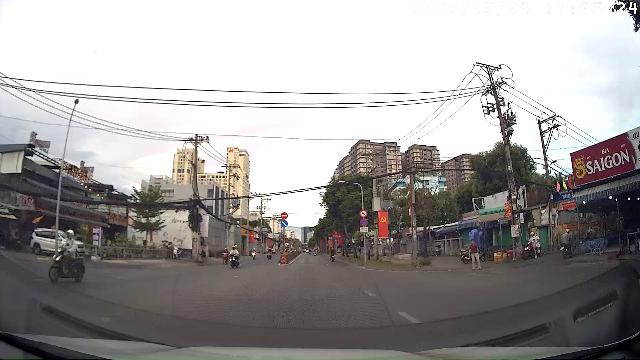102-cam-di-nguoc-chieu: (280, 212, 288, 219)
128-cam-su-dung-coi: (359, 209, 368, 218)
130-cam-dung-va-do-xe: (360, 218, 368, 226)
302a-huong-phai-di-vong-chuong-ngai-vat-1: (280, 220, 288, 227)
